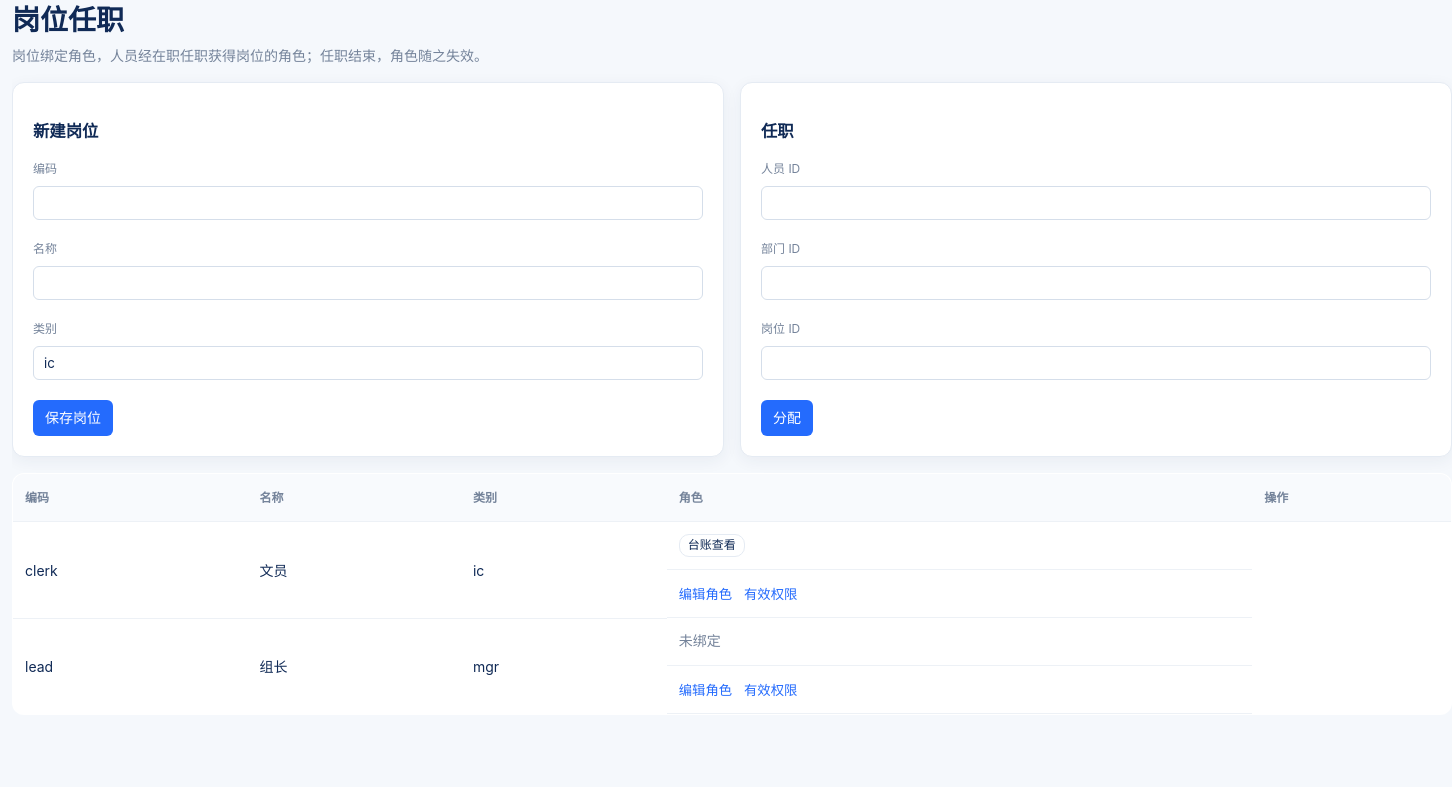
PLA2 position ↔ role binding › previews what a position brings (PLA3)
Click the button "有效权限" below "ic": click(771, 594) [744, 582, 797, 605]
(page scrolled)
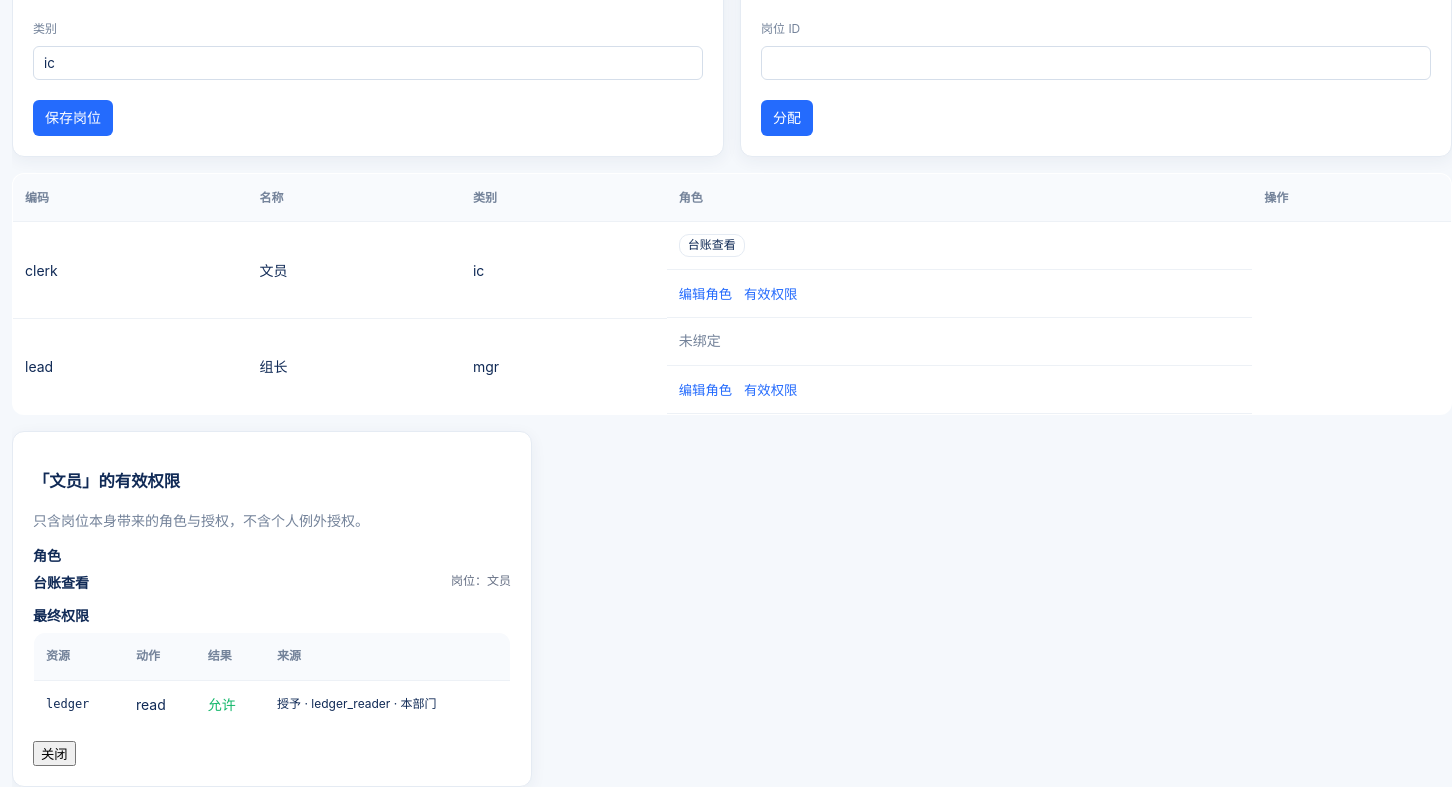
Check: the element with test id "position-preview" shows "「文员」的有效权限", box [33, 471, 180, 491]
Check: the element with test id "position-preview" shows "台账查看", box [33, 574, 89, 591]
Check: the row "ledger read 允许 授予 · ledger_reader · 本部门" is shown, box [34, 680, 510, 728]
